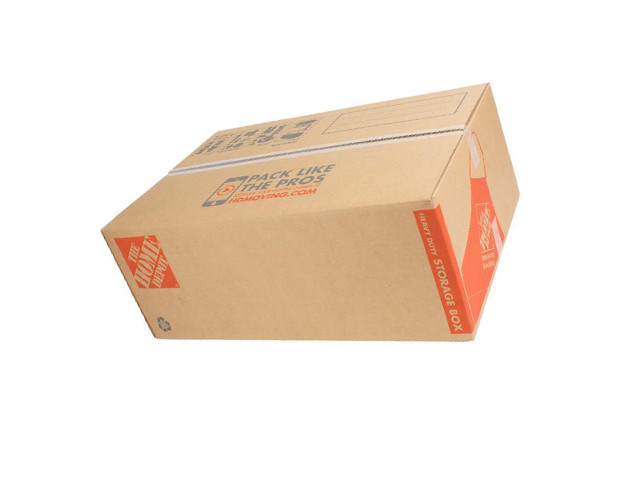cardboard: (100, 82, 520, 343)
